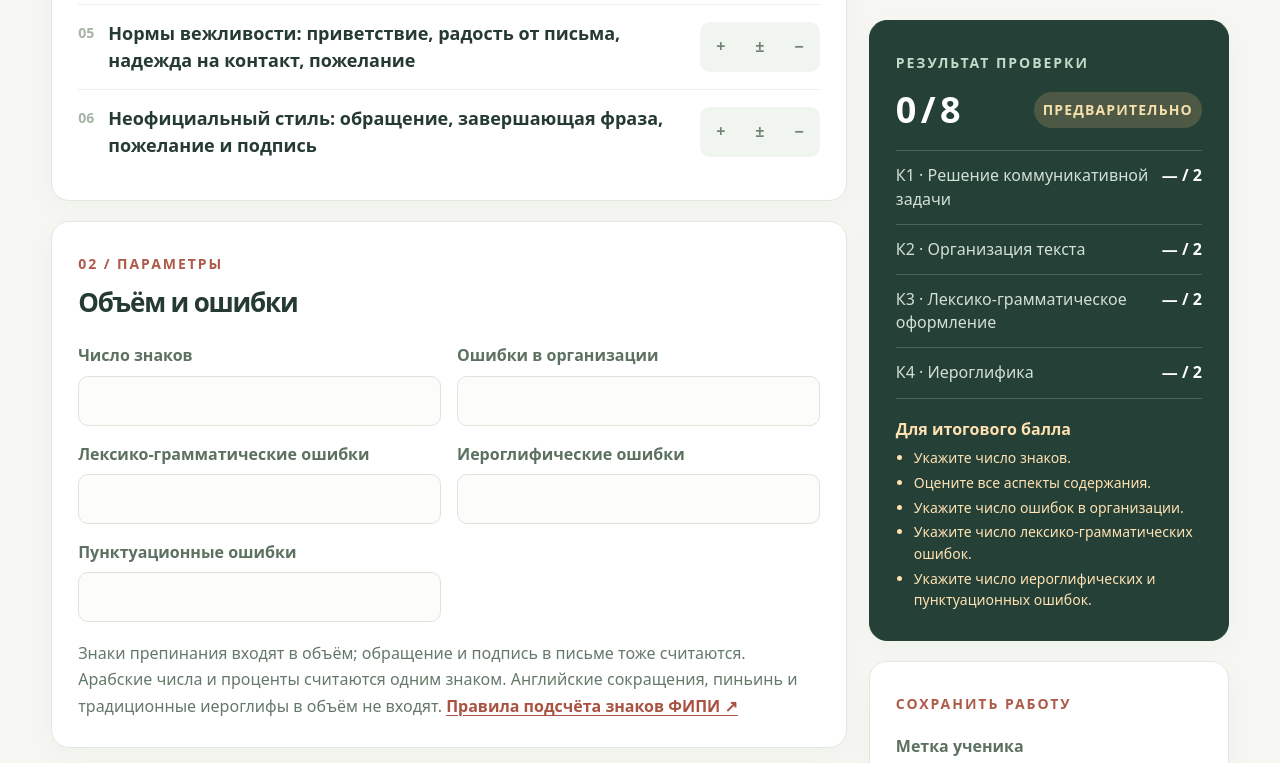
teacher checking flow › shows a zeroing reason for a written answer below the length threshold
(page scrolled)
In the number field labelled "Число знаков": {"x": 260, "y": 401} [78, 376, 441, 426], type "134"
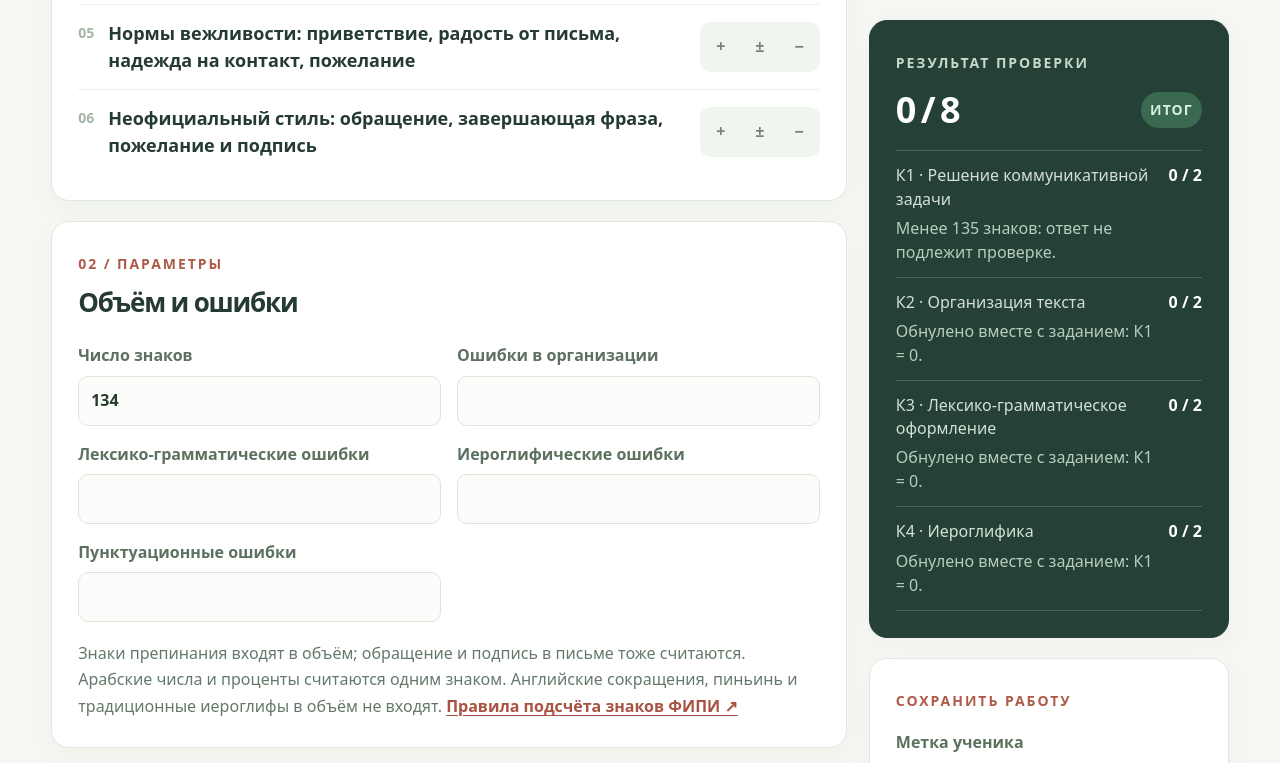
Expected: the text "0 / 8" is shown, [896, 92, 958, 128]
Now the text "Менее 135 знаков: ответ не подлежит проверке." is shown, box [896, 217, 1112, 263]
